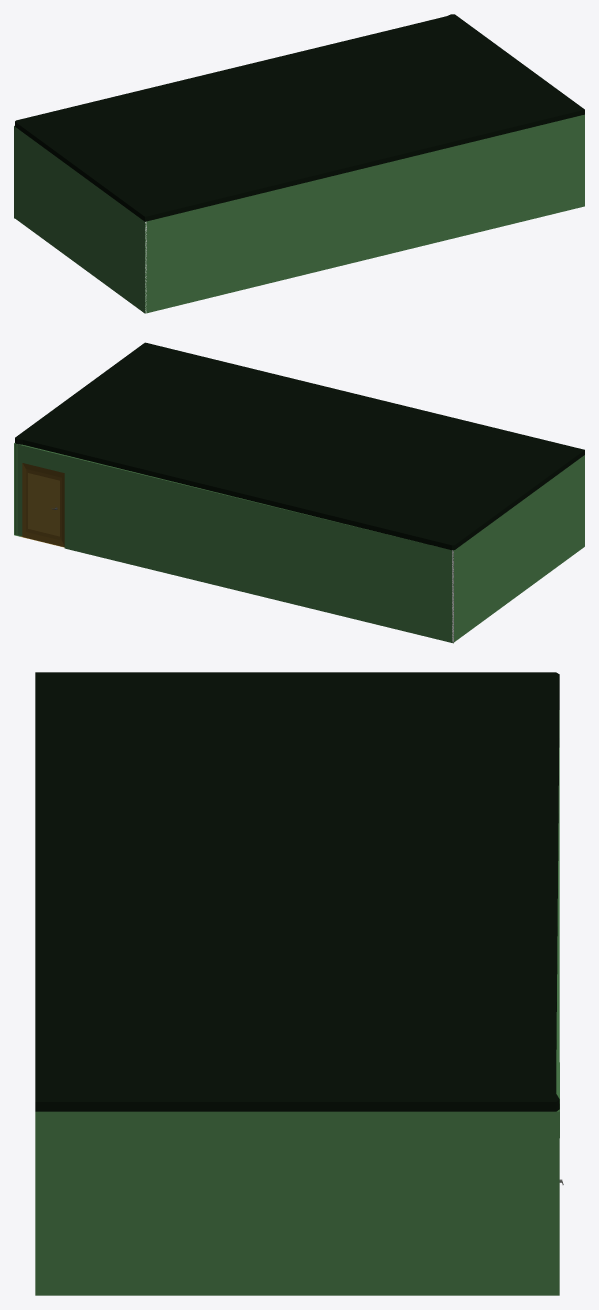
Rendered from finaldegilhissediyorum.fbx.
3 renders of one model, top to bottom at view 1: azimuth 30°, elevation 25°; view 2: azimuth 150°, elevation 25°; view 3: azimuth 270°, elevation 25°, orthographic. The views are drawn at different scales.
Visible parts, largest first — view 1: çatı, zemin; view 2: çatı, yanduvar, zemin, İÇKAPU, DIŞKAPI; view 3: çatı, zemin.
Part boxes in pixels (x1=…): çatı: x1=15, y1=14, x2=584, y2=221; zemin: x1=14, y1=114, x2=584, y2=313; çatı: x1=15, y1=342, x2=584, y2=550; yanduvar: x1=15, y1=443, x2=453, y2=642; zemin: x1=14, y1=443, x2=584, y2=643; İÇKAPU: x1=28, y1=473, x2=59, y2=536; DIŞKAPI: x1=22, y1=463, x2=64, y2=546; çatı: x1=35, y1=672, x2=559, y2=1111; zemin: x1=35, y1=710, x2=559, y2=1295.
Size of the model in its own units: 3100 by 661 by 1612.
